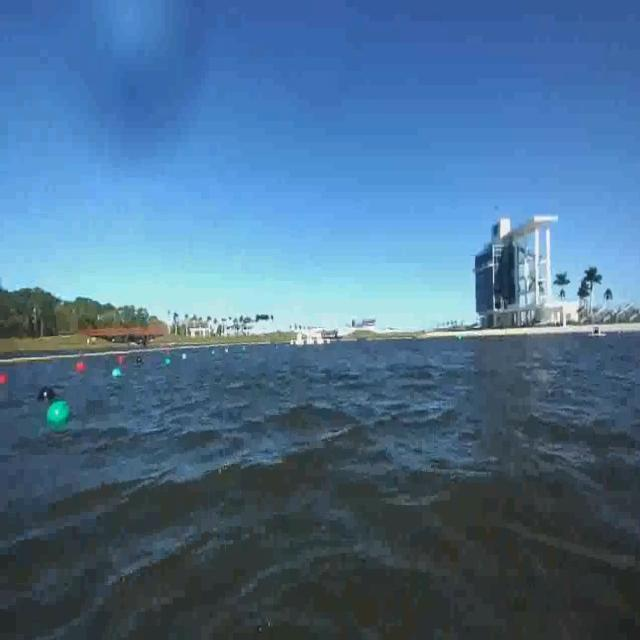black-buoy: (38, 385, 54, 402), (135, 350, 145, 368)
green-buoy: (50, 402, 72, 428), (112, 366, 122, 379)
red-buoy: (75, 361, 87, 373), (0, 374, 9, 385)
